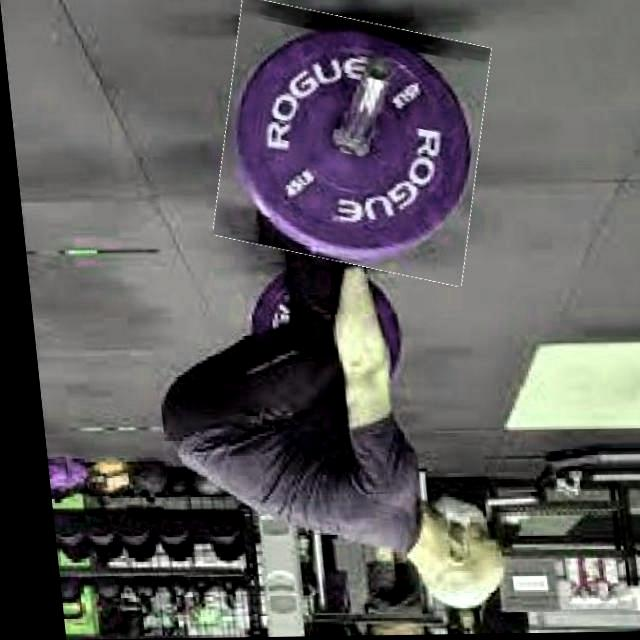barbell: (202, 6, 497, 278)
